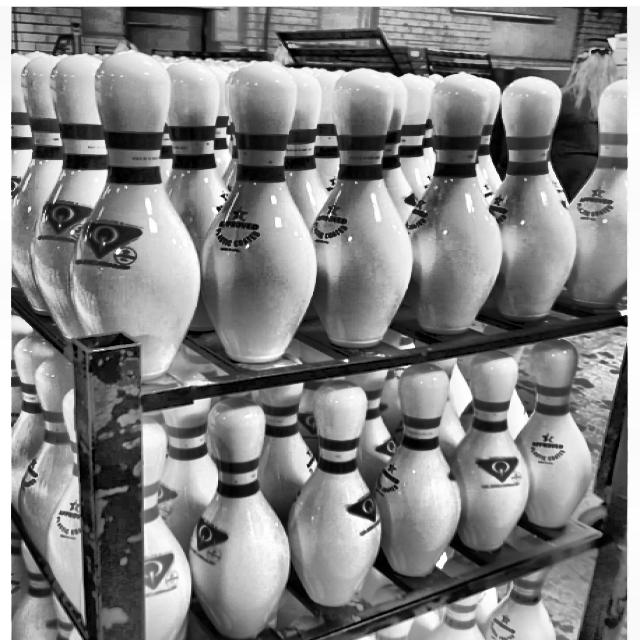bowling-pins: (73, 51, 200, 380), (201, 62, 316, 363), (313, 68, 412, 347), (407, 74, 502, 334), (189, 400, 291, 639), (490, 76, 577, 321), (288, 381, 381, 607), (34, 54, 106, 340), (376, 364, 461, 578), (453, 352, 530, 551), (517, 340, 594, 529), (570, 79, 629, 308), (10, 55, 61, 315), (165, 61, 228, 253), (17, 357, 73, 550), (143, 421, 191, 639), (158, 399, 218, 551), (256, 384, 316, 524), (10, 332, 57, 508), (46, 390, 82, 610), (285, 68, 328, 228), (347, 371, 397, 491), (383, 73, 416, 222), (486, 572, 556, 640), (432, 359, 474, 461), (400, 74, 433, 199), (477, 77, 503, 203), (432, 595, 485, 639)
